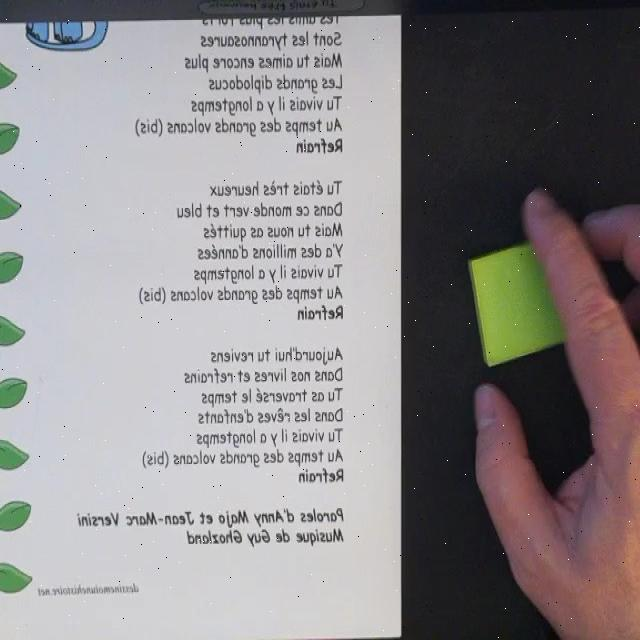square: (467, 232, 574, 368)
